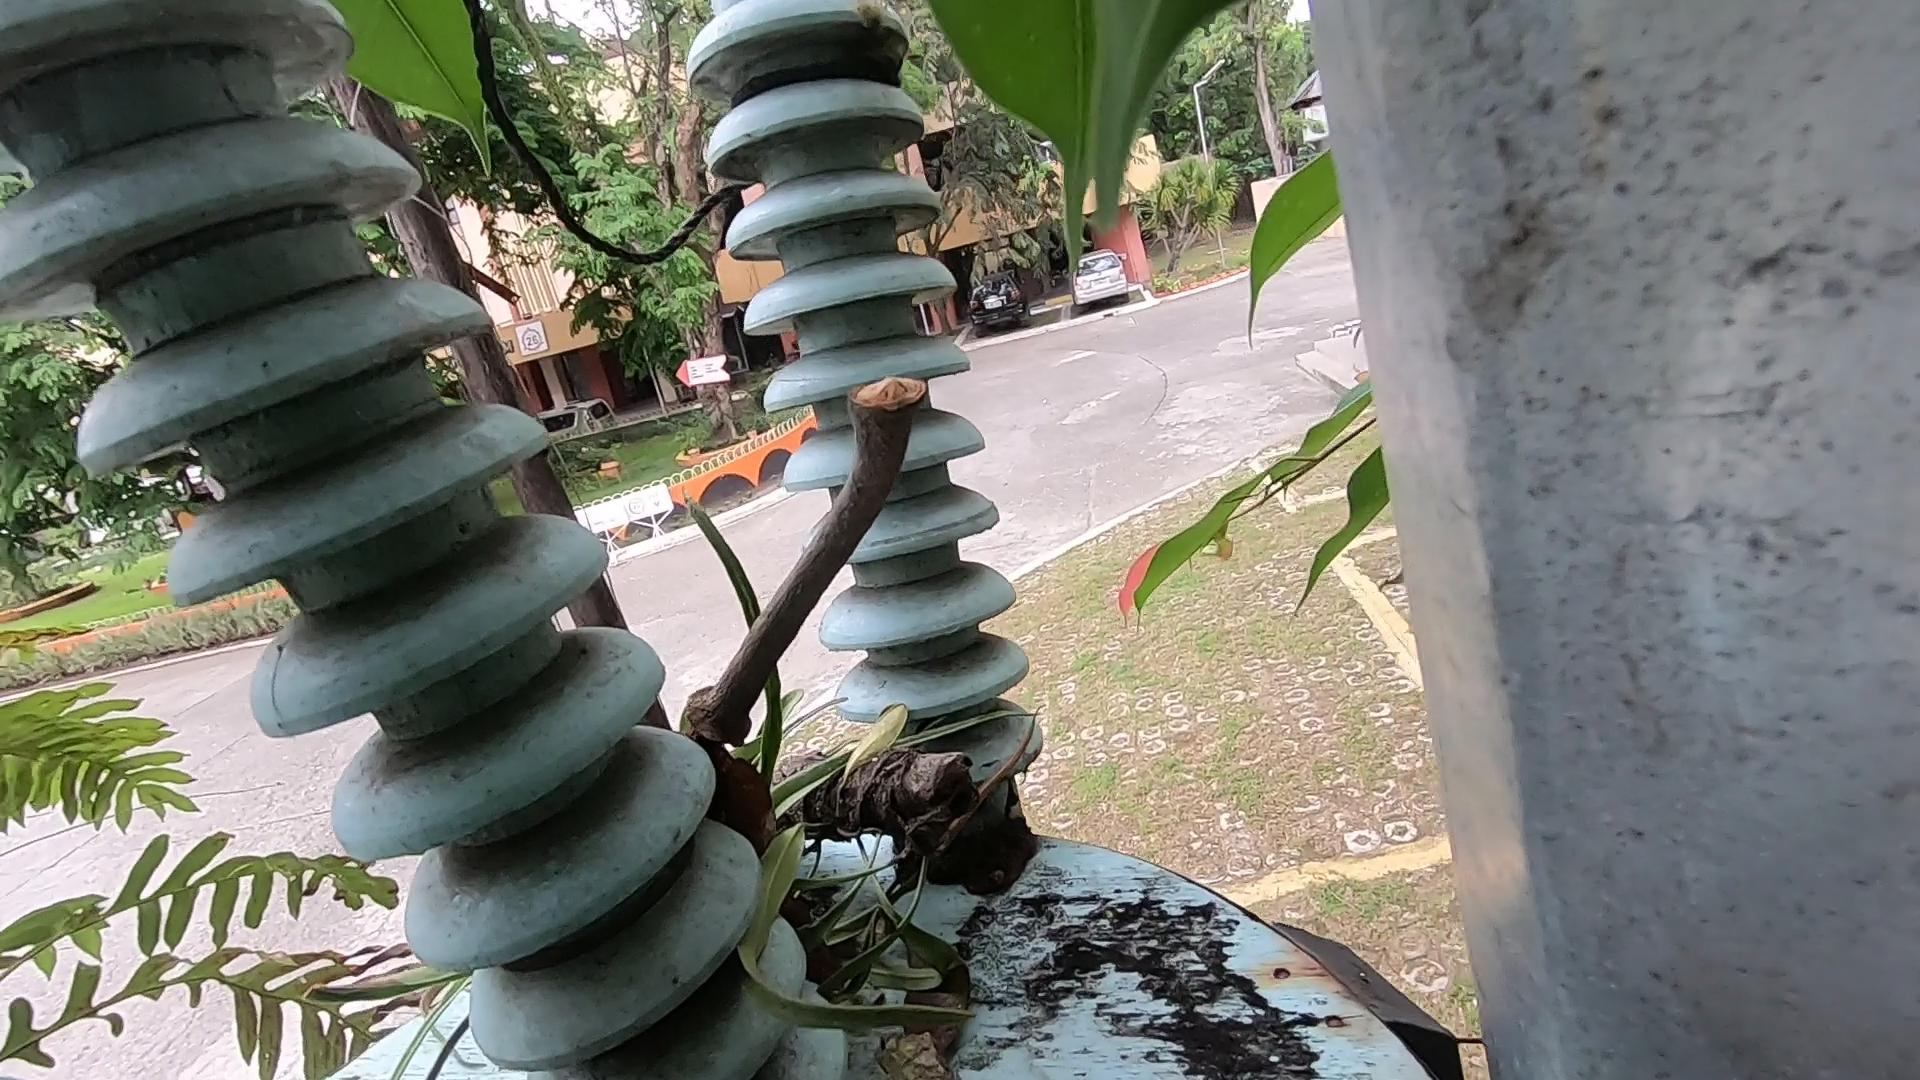branch with leaves: (709, 694, 1062, 1080)
tree branch: (760, 351, 978, 771)
